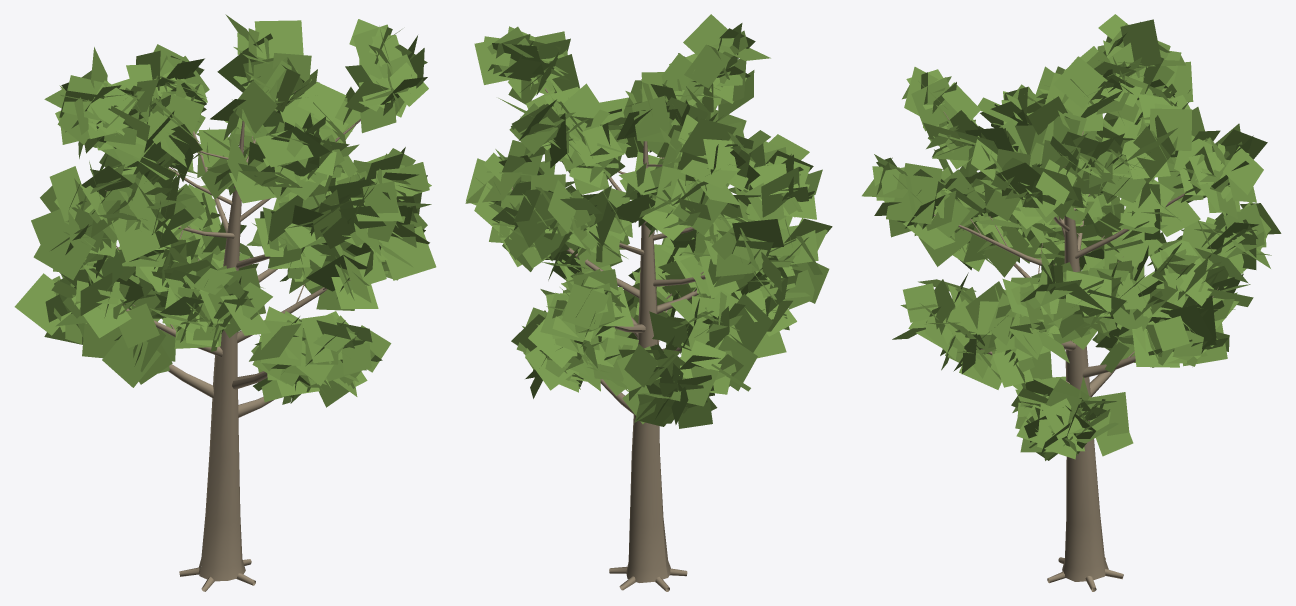
The model's file is oak-2-lod0.glb.
3 views of the same model, side by side, from view 1: azimuth 30°, elevation 25°; view 2: azimuth 150°, elevation 25°; view 3: azimuth 270°, elevation 25° (orthographic). The views are drawn at different scales.
Parts seen in each view (by area): view 1: oak-2-lod0-foliage, oak-2-lod0-bark; view 2: oak-2-lod0-foliage, oak-2-lod0-bark; view 3: oak-2-lod0-foliage, oak-2-lod0-bark.
Boxes of the visible parts, bbox=[...] form: oak-2-lod0-foliage: bbox=[14, 14, 436, 407]; oak-2-lod0-bark: bbox=[105, 90, 360, 591]; oak-2-lod0-foliage: bbox=[465, 14, 832, 428]; oak-2-lod0-bark: bbox=[512, 58, 722, 591]; oak-2-lod0-foliage: bbox=[862, 14, 1281, 460]; oak-2-lod0-bark: bbox=[934, 111, 1218, 591].
Size of the model in its own units: 19.26 by 25.91 by 19.23.
